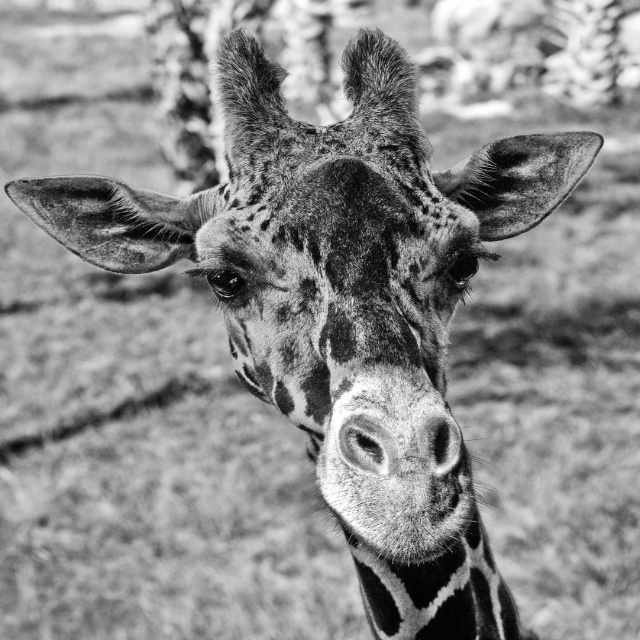Giraffe: (8, 22, 604, 640)
